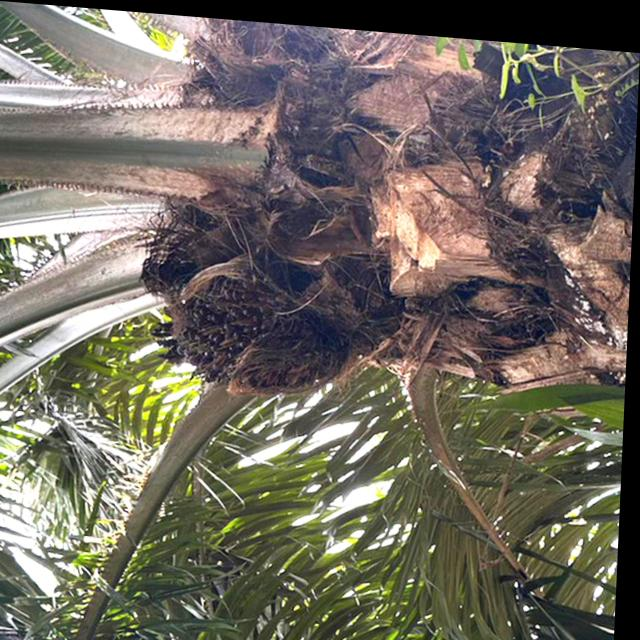unripe: (166, 253, 355, 408)
